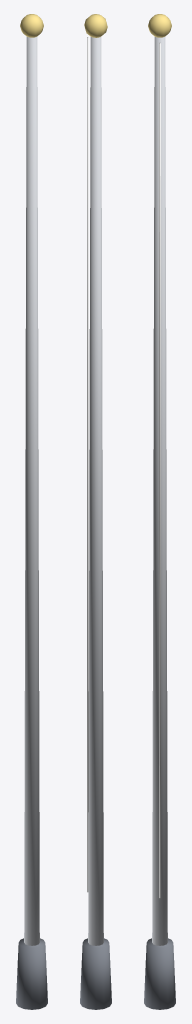
Rendered from flagpole.glb.
3 views of the same model, side by side, from view 1: azimuth 90°, elevation 25°; view 2: azimuth 150°, elevation 25°; view 3: azimuth 270°, elevation 25° (orthographic).
Visible parts, largest first — view 1: flagpole; view 2: flagpole; view 3: flagpole.
Part boxes in pixels (x1,y1,x2,y2): flagpole: (16,14,47,1009); flagpole: (80,14,111,1009); flagpole: (144,14,175,1009).
Bounding box in the file's own units: 0.24 × 8.15 × 0.24.
